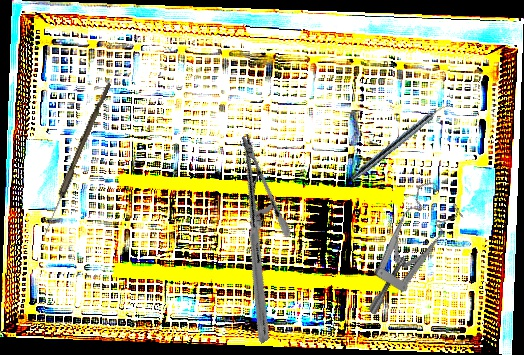Handpiece: (348, 97, 453, 186)
Needle Holder: (159, 133, 351, 344)
Speculum: (327, 174, 481, 317)
Surgical Spoon: (41, 81, 112, 237)
